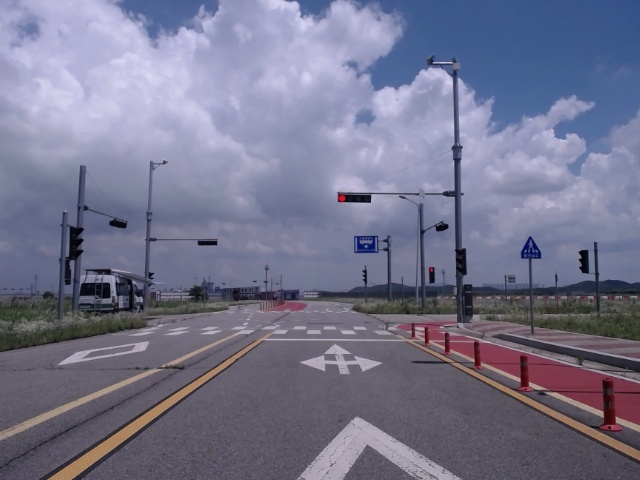red_4: (338, 194, 372, 203)
